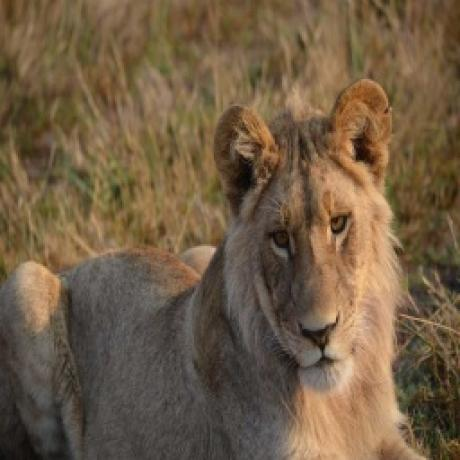Lion: (0, 73, 417, 460)
